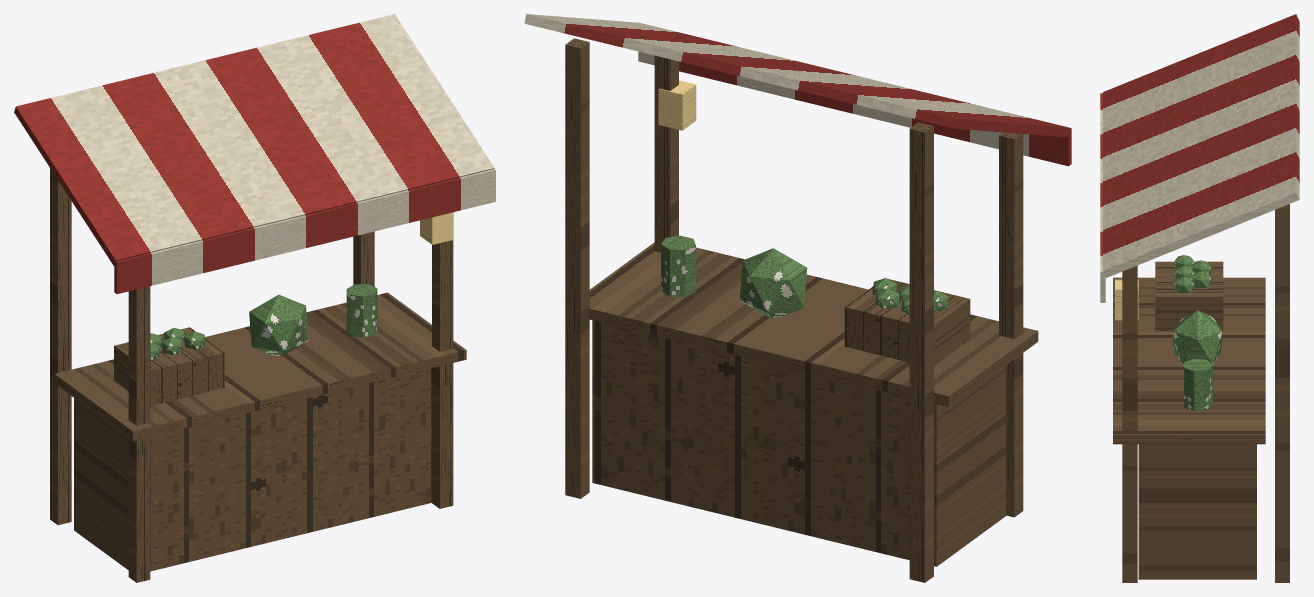
Rendered from stall.glb.
3 views of the same model, side by side, from view 1: azimuth 30°, elevation 25°; view 2: azimuth 150°, elevation 25°; view 3: azimuth 270°, elevation 25° (orthographic). The views are drawn at different scales.
Visible parts, largest first — view 1: stall, glow-lamp; view 2: stall, glow-lamp; view 3: stall, glow-lamp.
Part boxes in pixels (x1=…): stall: x1=14, y1=14, x2=495, y2=582; glow-lamp: x1=420, y1=212, x2=453, y2=244; stall: x1=524, y1=14, x2=1071, y2=582; glow-lamp: x1=658, y1=80, x2=696, y2=130; stall: x1=1100, y1=14, x2=1299, y2=582; glow-lamp: x1=1115, y1=279, x2=1138, y2=320.
Size of the model in its own units: 2.5 by 2.64 by 1.18.
Materials: 1 (1 with a texture image).
